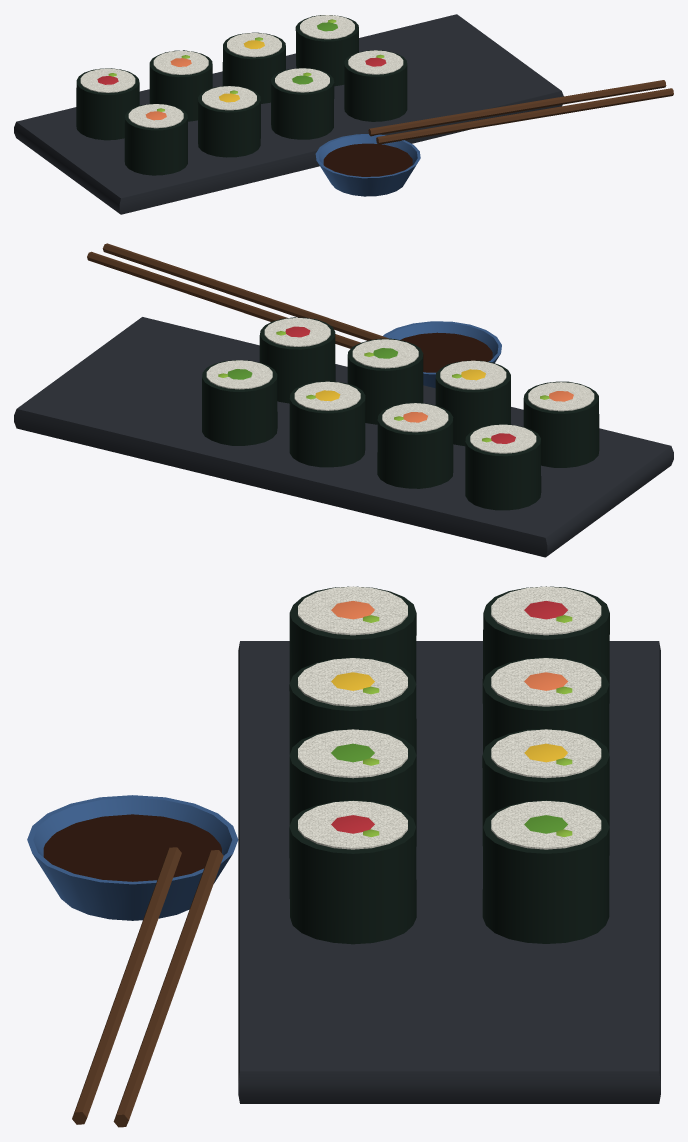
Rendered from meal_maki_platter.glb.
3 views of the same model, one above another, from view 1: azimuth 30°, elevation 25°; view 2: azimuth 150°, elevation 25°; view 3: azimuth 270°, elevation 25° (orthographic). The views are drawn at different scales.
Visible parts, largest first — view 1: meal_maki_platter; view 2: meal_maki_platter; view 3: meal_maki_platter.
Boxes of the visible parts, x1,y1,x2,y2 form: meal_maki_platter: (14, 14, 673, 214); meal_maki_platter: (14, 243, 673, 557); meal_maki_platter: (27, 586, 660, 1127).
Size of the model in its own units: 0.3952 by 0.0465 by 0.21.
11 materials, 1 textured.
